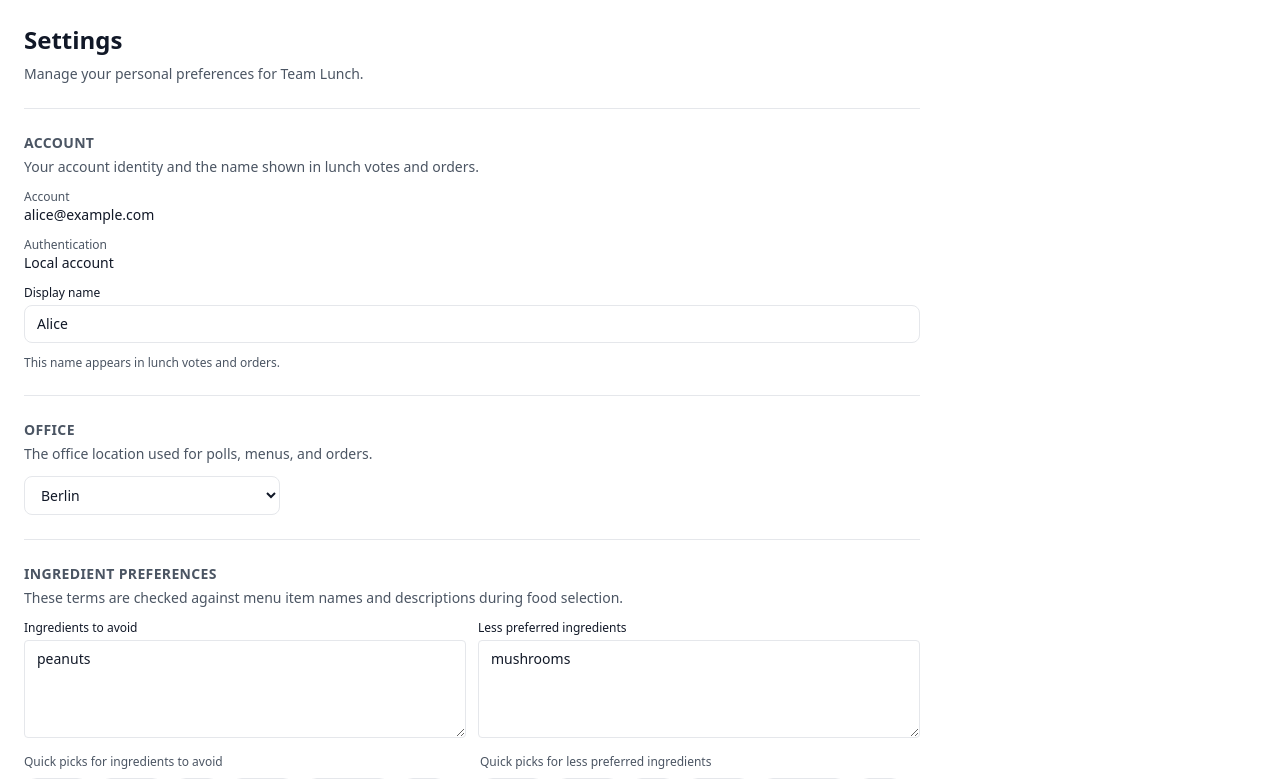
Test case: Settings › cancels staged settings changes
Step 1. Select "Hamburg" in the dropdown named "office location" → (152,496), box left=24, top=476, right=280, bottom=515
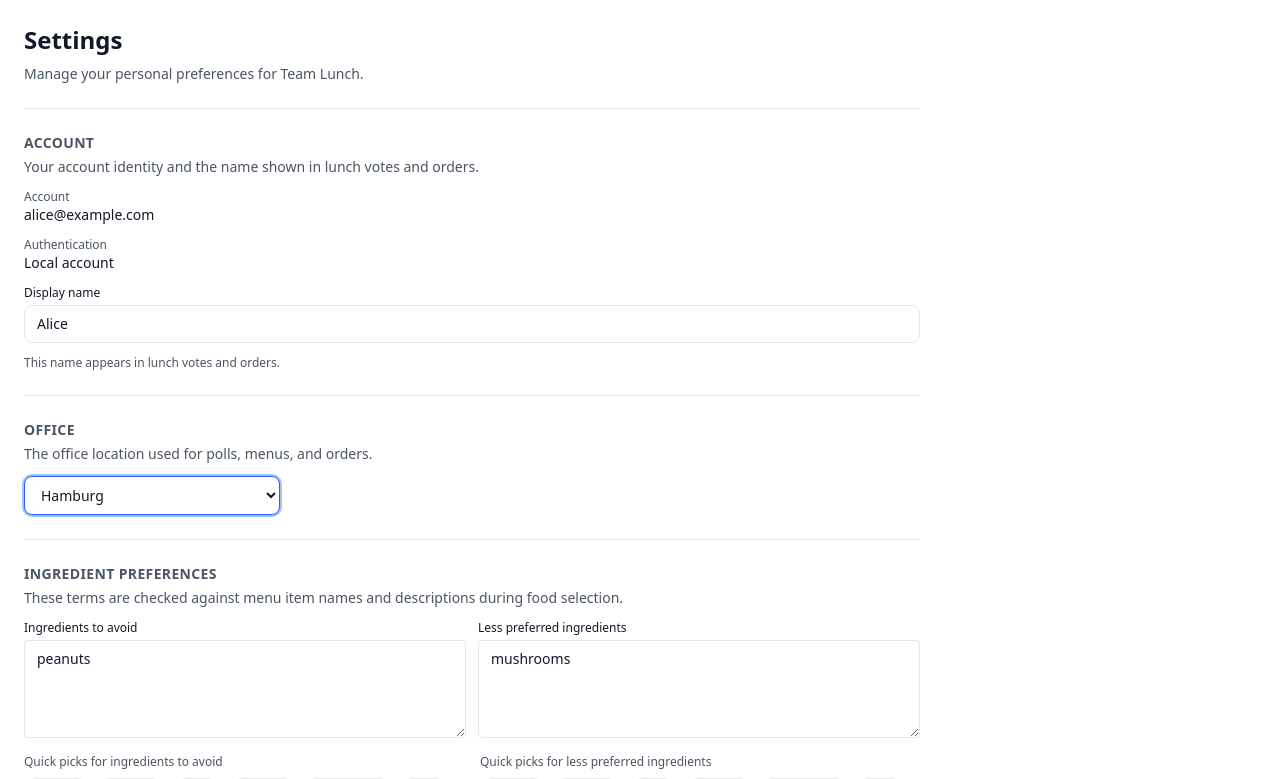
Step 2. Replace the text in the text box labelled "Ingredients to avoid" with "shrimp" → (245,689), box left=24, top=640, right=466, bottom=738
(page scrolled)
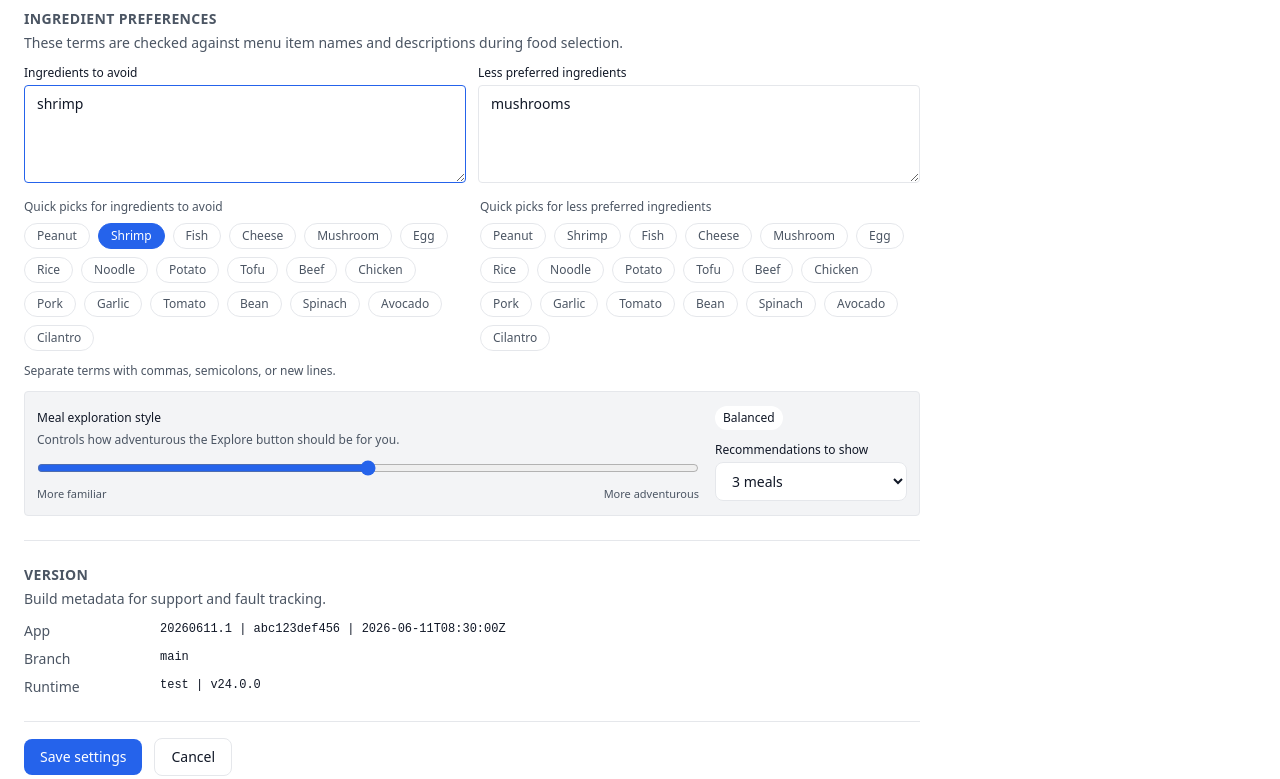
Step 3. Click the button "Cancel" → (193,756), box left=154, top=738, right=232, bottom=776
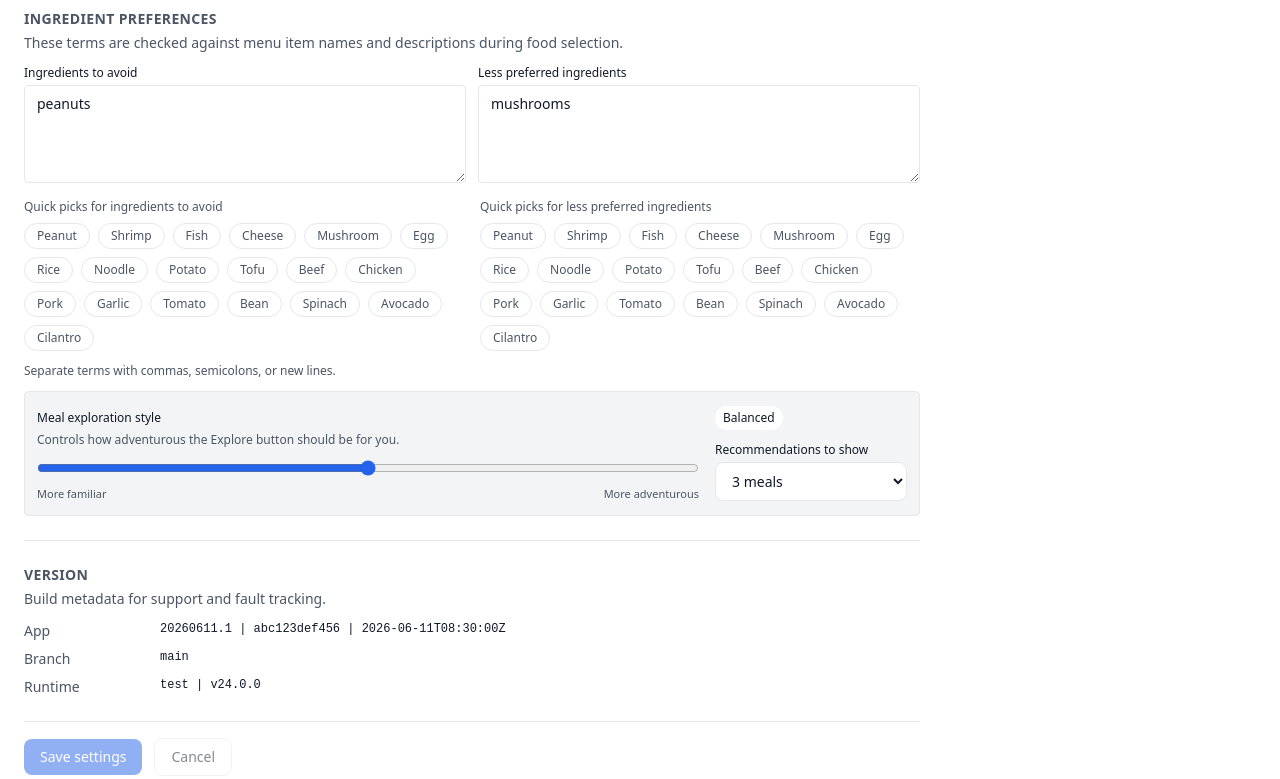
Expected: the text box labelled "Ingredients to avoid" holds "peanuts", left=24, top=85, right=466, bottom=183
